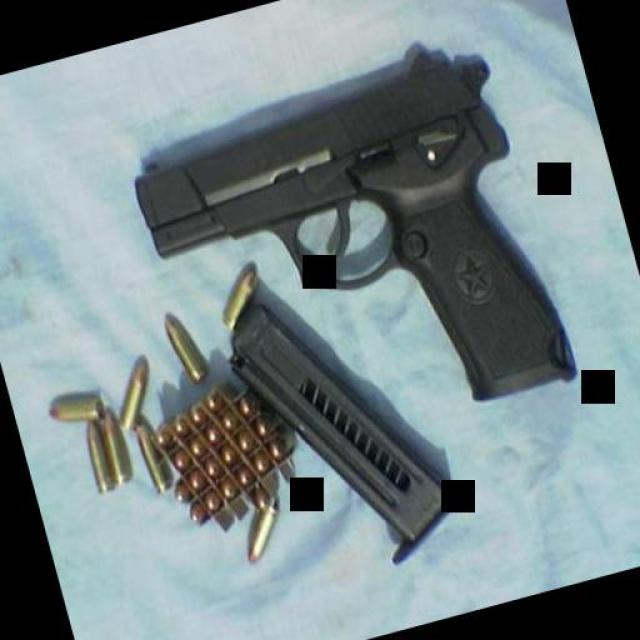gun: (115, 31, 576, 476)
